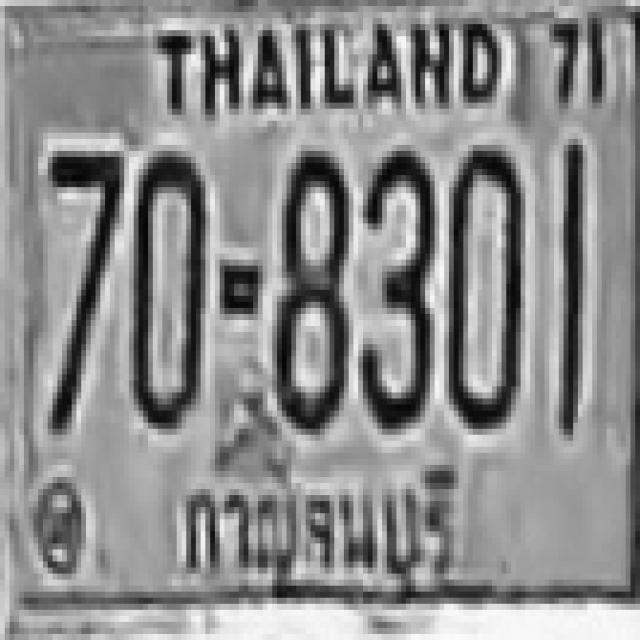0: (444, 142, 521, 426), (129, 145, 205, 423)
3: (356, 148, 432, 426)
7: (48, 145, 119, 398), (48, 145, 119, 332)
8: (272, 145, 344, 429)
Kanchanaburi: (170, 462, 484, 599)
